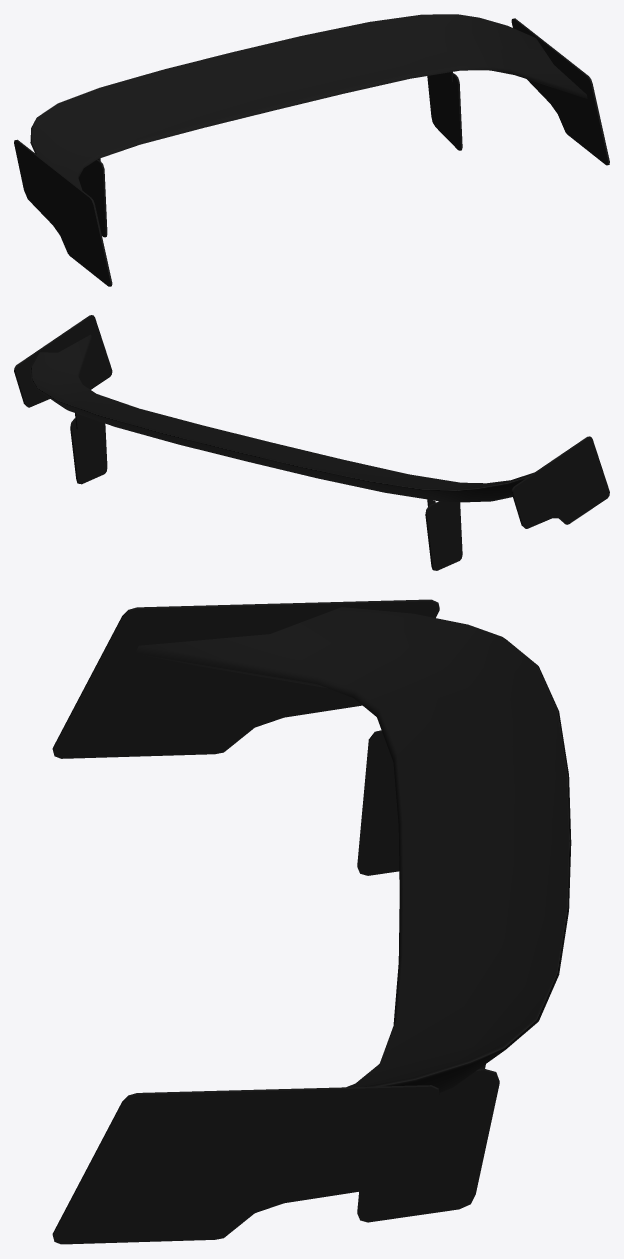
File: RWB_Spoiler_01_Trim.fbx
3 views of the same model, one above another, from view 1: azimuth 30°, elevation 25°; view 2: azimuth 150°, elevation 25°; view 3: azimuth 270°, elevation 25° (orthographic). The views are drawn at different scales.
Parts seen in each view (by area): view 1: RWB_Spoiler_01_Trim; view 2: RWB_Spoiler_01_Trim; view 3: RWB_Spoiler_01_Trim.
Boxes of the visible parts, x1,y1,x2,y2 form: RWB_Spoiler_01_Trim: (14, 14, 609, 286); RWB_Spoiler_01_Trim: (14, 315, 609, 570); RWB_Spoiler_01_Trim: (52, 599, 571, 1244).
Size of the model in its own units: 150 by 29.92 by 67.31.
